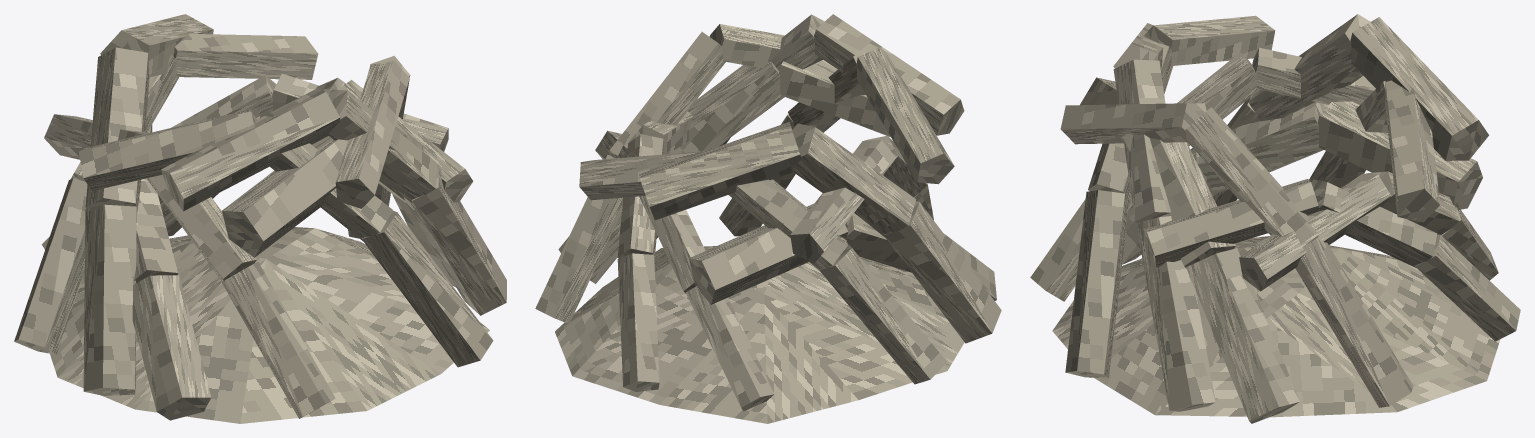
Rendered from f_fungal_clump.glb.
The picture shows the model from 3 angles, left to right: view 1: azimuth 30°, elevation 25°; view 2: azimuth 150°, elevation 25°; view 3: azimuth 270°, elevation 25°; orthographic projection. The views are drawn at different scales.
Visible parts, largest first — view 1: block_intertwined-fungal-strand-1 (×7), block_intertwined-fungal-strand-3 (×9), block_mycelial-mat, block_intertwined-fungal-strand-2 (×7); view 2: block_intertwined-fungal-strand-3 (×10), block_mycelial-mat, block_intertwined-fungal-strand-1 (×8), block_intertwined-fungal-strand-2 (×10); view 3: block_intertwined-fungal-strand-1 (×10), block_intertwined-fungal-strand-3 (×10), block_intertwined-fungal-strand-2 (×10), block_mycelial-mat.
Part boxes in pixels (box(x1,y1,x2,y2)): block_intertwined-fungal-strand-1 (×7): box(14, 164, 506, 420); block_intertwined-fungal-strand-3 (×9): box(44, 14, 473, 257); block_mycelial-mat: box(50, 227, 489, 423); block_intertwined-fungal-strand-2 (×7): box(71, 47, 437, 282); block_intertwined-fungal-strand-3 (×10): box(579, 14, 964, 304); block_mycelial-mat: box(555, 246, 964, 423); block_intertwined-fungal-strand-1 (×8): box(535, 102, 1001, 411); block_intertwined-fungal-strand-2 (×10): box(610, 14, 926, 293); block_intertwined-fungal-strand-1 (×10): box(1030, 96, 1520, 423); block_intertwined-fungal-strand-3 (×10): box(1060, 15, 1488, 291); block_intertwined-fungal-strand-2 (×10): box(1088, 14, 1459, 268); block_mycelial-mat: box(1052, 236, 1500, 417).
Size of the model in its own units: 0.7368 by 0.4666 by 0.717.
Materials: 1 (1 with a texture image).
